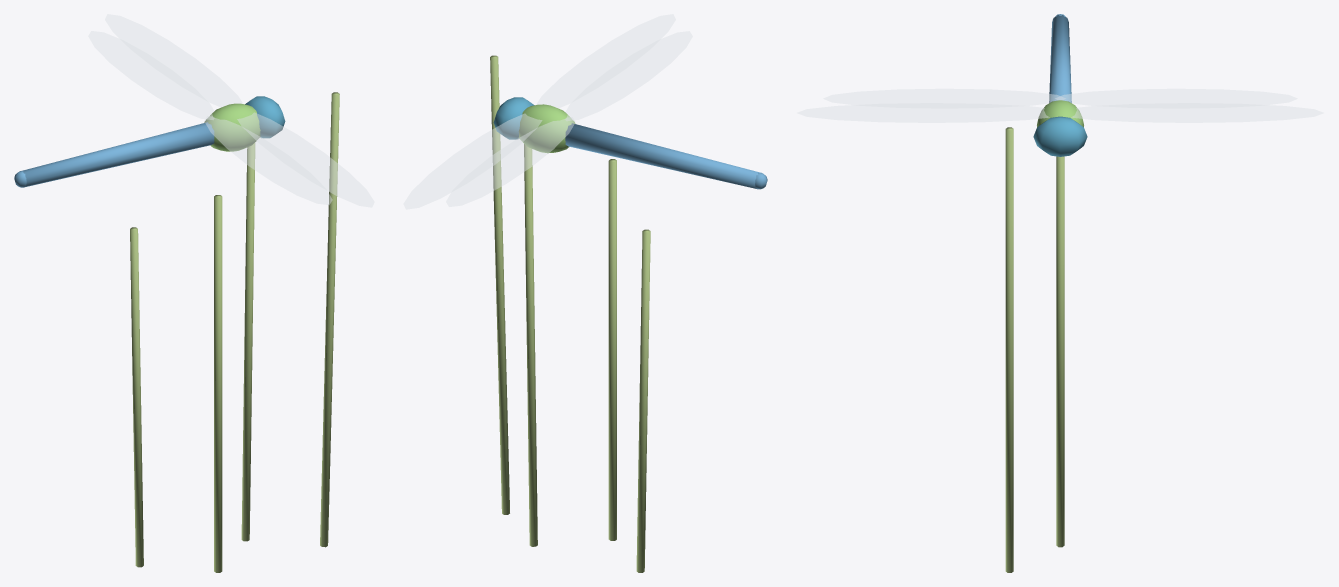
Rendered from darner-dragonfly.glb.
The picture shows the model from 3 angles, left to right: view 1: azimuth 30°, elevation 25°; view 2: azimuth 150°, elevation 25°; view 3: azimuth 270°, elevation 25°; orthographic projection.
Parts seen in each view (by area): view 1: e, limb; view 2: e, limb; view 3: e, limb.
Boxes of the visible parts, x1,y1,x2,y2 form: e: (14,14,374,207); limb: (130,92,339,572); e: (403,14,767,209); limb: (490,55,650,572); e: (797,14,1323,156); limb: (1005,127,1064,572).
Bounding box in the file's own units: 1.02 × 1.46 × 1.56.
